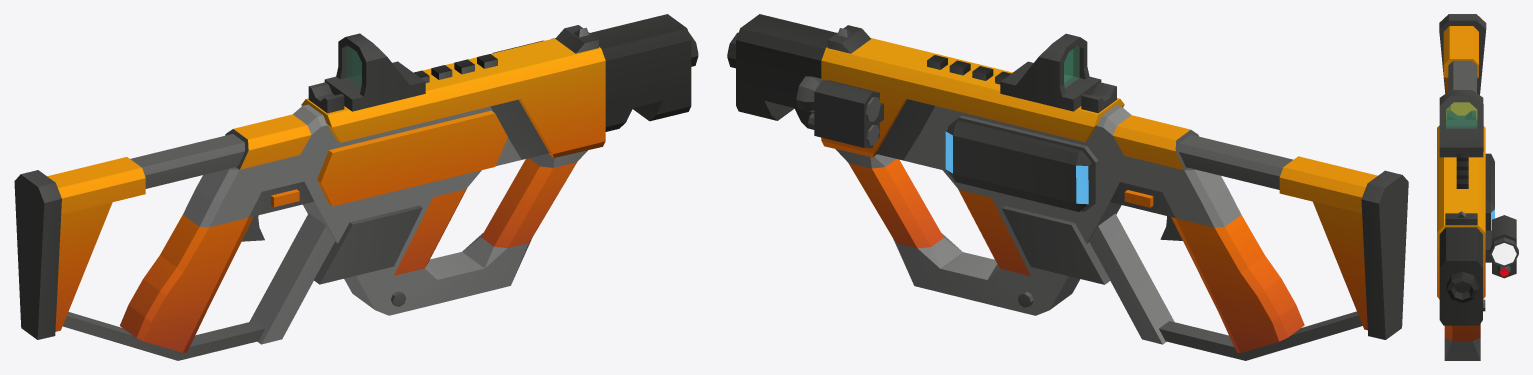
The model's file is SMG_mesh.fbx.
3 renders of one model, left to right at view 1: azimuth 30°, elevation 25°; view 2: azimuth 150°, elevation 25°; view 3: azimuth 270°, elevation 25°, orthographic. The views are drawn at different scales.
Parts seen in each view (by area): view 1: SMG_mesh, SMG_Silencer_mesh, ReflexB_mesh, SMGIronSight_mesh; view 2: SMG_mesh, Mag_SMG_mesh, SMG_Silencer_mesh, MediumLaserCombo_mesh, ReflexB_mesh, SMGIronSight_mesh; view 3: SMG_mesh, SMG_Silencer_mesh, ReflexB_mesh, MediumLaserCombo_mesh, Mag_SMG_mesh, SMGIronSight_mesh.
Part boxes in pixels (x1=…): SMG_mesh: x1=14, y1=38, x2=605, y2=360; SMG_Silencer_mesh: x1=590, y1=14, x2=698, y2=131; ReflexB_mesh: x1=324, y1=33, x2=425, y2=111; SMGIronSight_mesh: x1=308, y1=25, x2=598, y2=113; SMG_mesh: x1=821, y1=38, x2=1408, y2=360; Mag_SMG_mesh: x1=945, y1=120, x2=1092, y2=211; SMG_Silencer_mesh: x1=727, y1=14, x2=836, y2=129; MediumLaserCombo_mesh: x1=796, y1=76, x2=883, y2=148; ReflexB_mesh: x1=1000, y1=33, x2=1101, y2=111; SMGIronSight_mesh: x1=827, y1=25, x2=1116, y2=113; SMG_mesh: x1=1437, y1=14, x2=1486, y2=360; SMG_Silencer_mesh: x1=1439, y1=227, x2=1482, y2=325; ReflexB_mesh: x1=1439, y1=90, x2=1483, y2=157; MediumLaserCombo_mesh: x1=1485, y1=215, x2=1518, y2=278; Mag_SMG_mesh: x1=1485, y1=153, x2=1494, y2=230; SMGIronSight_mesh: x1=1445, y1=111, x2=1477, y2=225.
Bounding box in the file's own units: 52.95 × 20.84 × 7.21.
3 materials, 1 textured.
